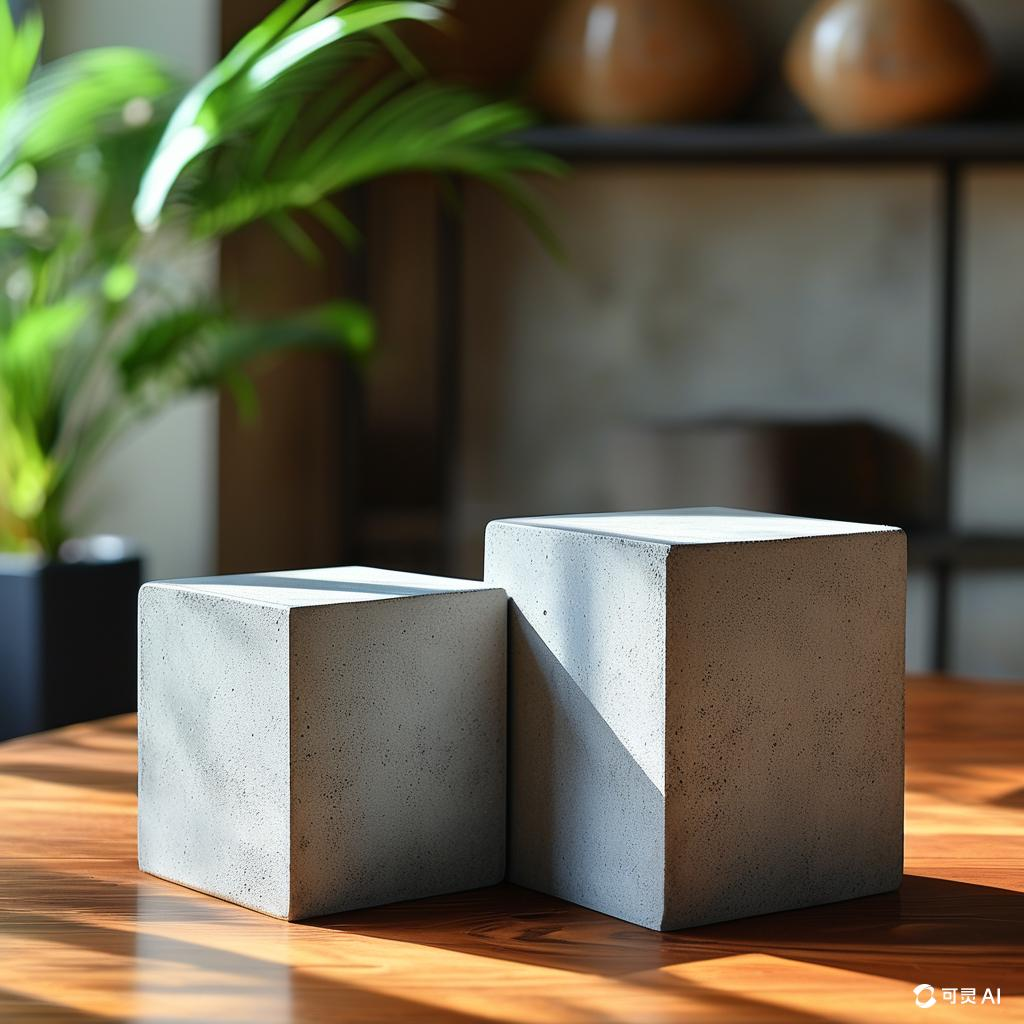cube: (483, 504, 907, 932), (135, 563, 509, 922)
